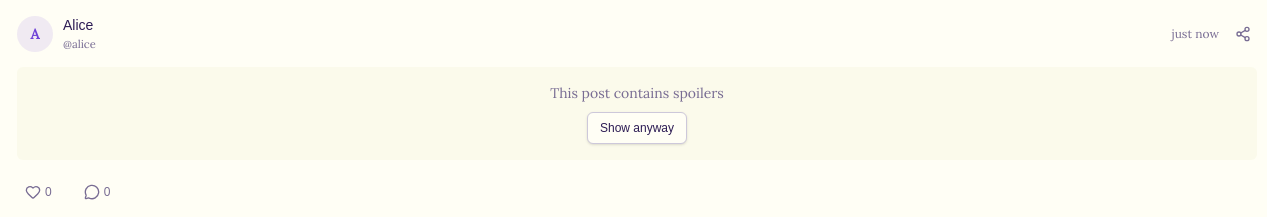
Test: PostCard — spoilers › reveals the content when Show anyway is clicked
This screenshot has width=1267, height=217.
Click the button "Show anyway". click: (637, 128)
box: [587,112,687,144]
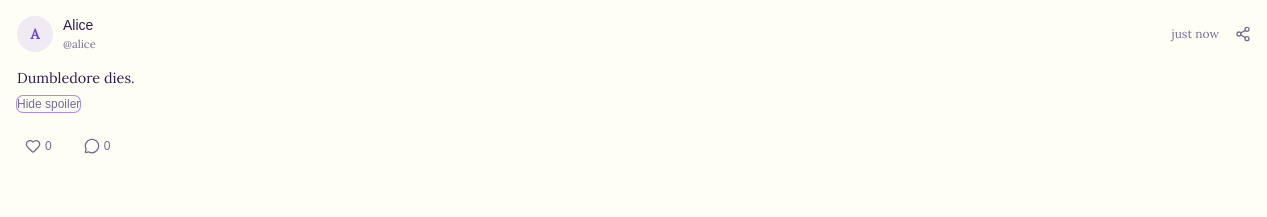
expect the text "Dumbledore dies." is shown: met, box [17,69,135,87]
expect the text "This post contains spoilers" is gone: met
expect the button "Show anyway" is gone: met
